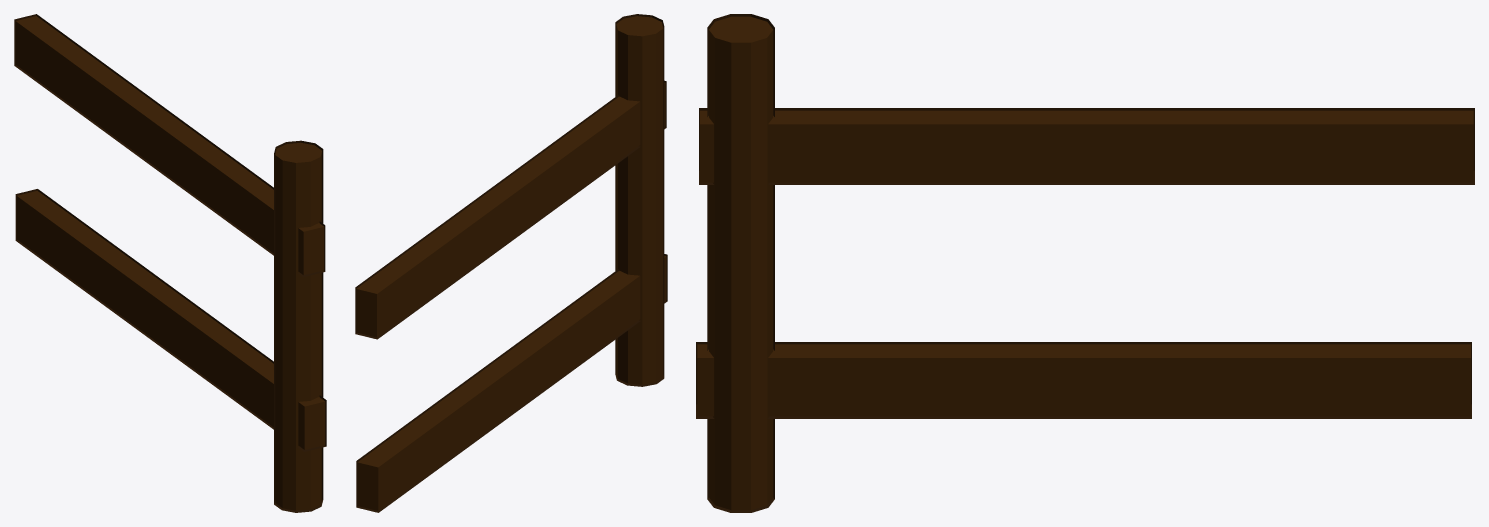
The model's file is Fence_Single_Post_(Outlined)v002.fbx.
3 views of the same model, side by side, from view 1: azimuth 30°, elevation 25°; view 2: azimuth 150°, elevation 25°; view 3: azimuth 270°, elevation 25° (orthographic). The views are drawn at different scales.
Parts seen in each view (by area): view 1: Slat_1, Slat_2, Fence_Post; view 2: Slat_1, Slat_2, Fence_Post; view 3: Slat_2, Slat_1, Fence_Post.
Part boxes in pixels (x1,y1,x2,y2): Slat_1: [14, 14, 325, 277]; Slat_2: [15, 189, 326, 451]; Fence_Post: [274, 140, 323, 512]; Slat_1: [355, 80, 666, 339]; Slat_2: [356, 254, 667, 512]; Fence_Post: [615, 14, 664, 386]; Slat_2: [696, 342, 1471, 418]; Slat_1: [699, 108, 1474, 184]; Fence_Post: [707, 14, 774, 512].
Bounding box in the file's own units: 49.77 × 404 × 604.
